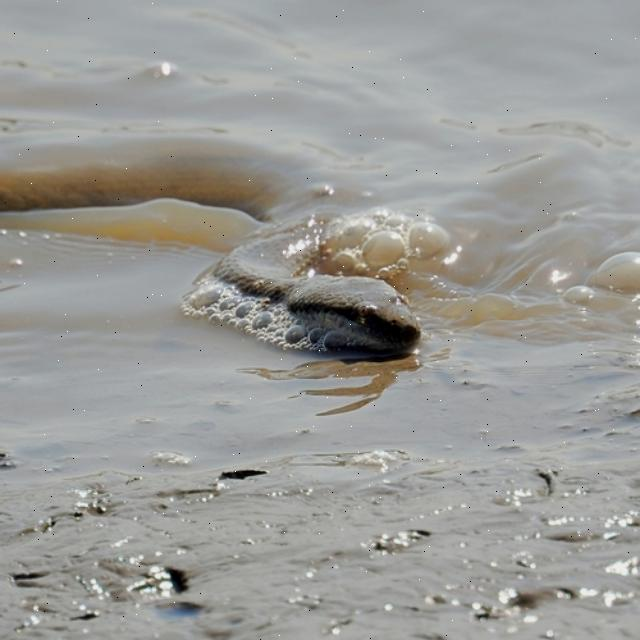snake: (76, 160, 452, 402)
